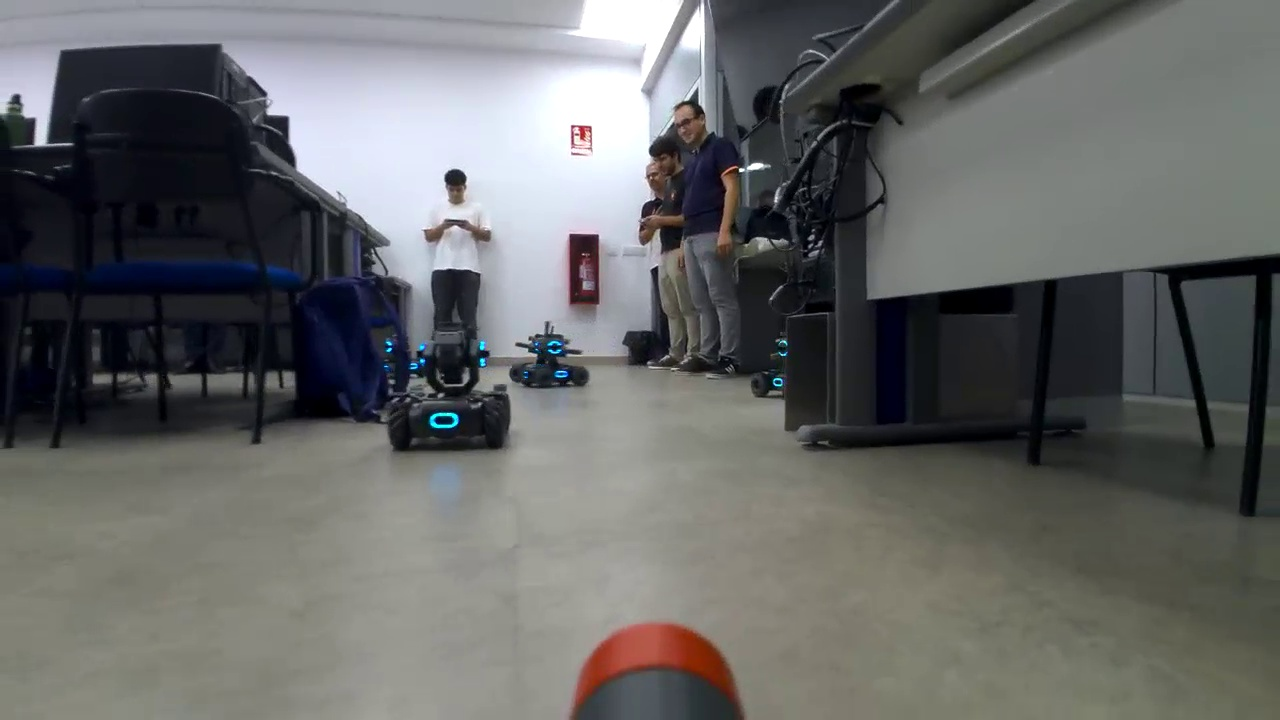robot: (382, 319, 515, 455), (748, 330, 804, 405), (518, 333, 592, 388), (506, 320, 560, 383), (371, 328, 418, 376)
